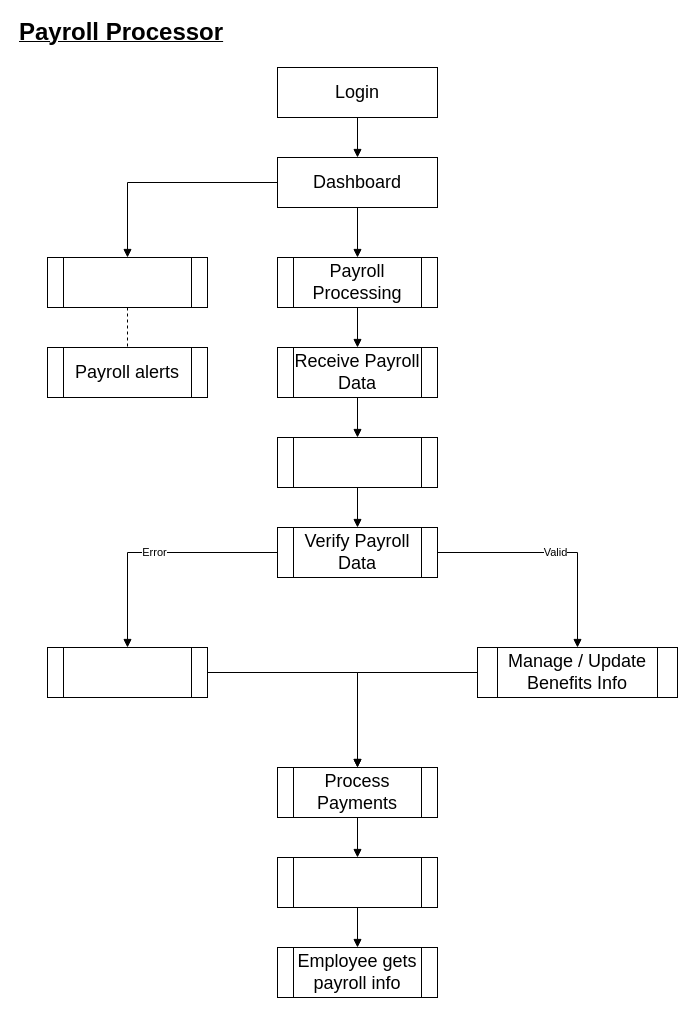
The diagram is 695 pixels wide and 1015 high, and some of its shapes have lost their labels. The shapes that lost their labels are listed below. From the top down, each one's centre as x and y in pixels, then its label:
At pixel 127 282: "Notification".
At pixel 357 462: "Calculate Payroll".
At pixel 127 672: "Correct data".
At pixel 357 882: "Salary Disbursement".
